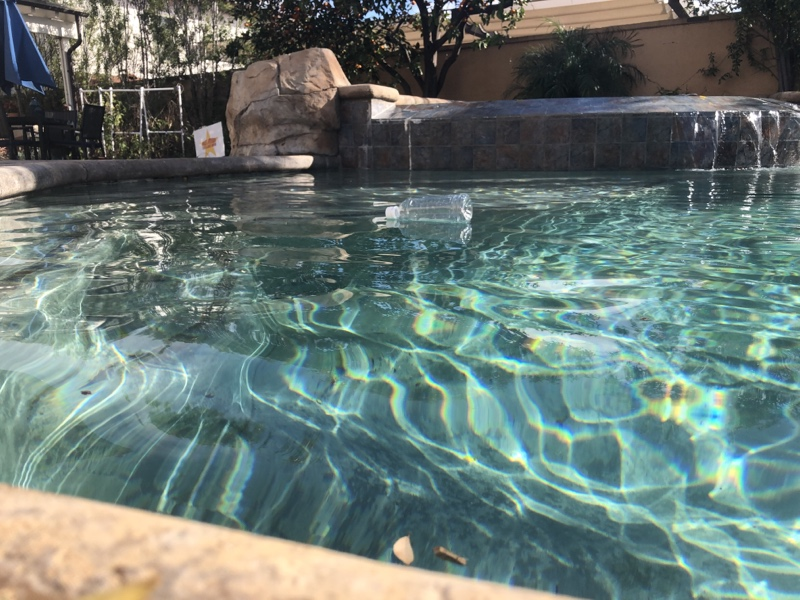Plastic Bottle: (383, 192, 479, 229)
